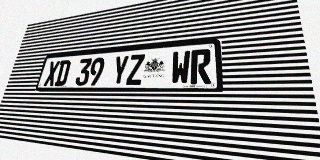3: (74, 58, 92, 86)
9: (87, 57, 106, 86)
D: (54, 60, 71, 86)
R: (190, 49, 211, 84)
W: (170, 50, 191, 84)
X: (43, 61, 60, 86)
Y: (110, 55, 129, 85)
Z: (126, 54, 145, 85)
